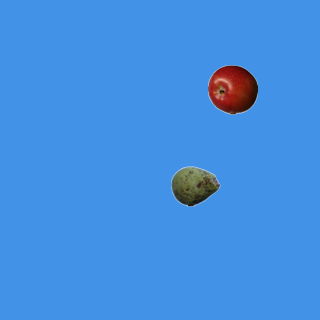Apple Braeburn: (207, 64, 257, 114)
Pear Stone: (170, 161, 220, 211)
